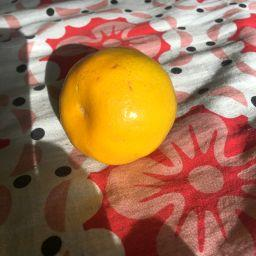Ripe: (59, 47, 172, 166)
